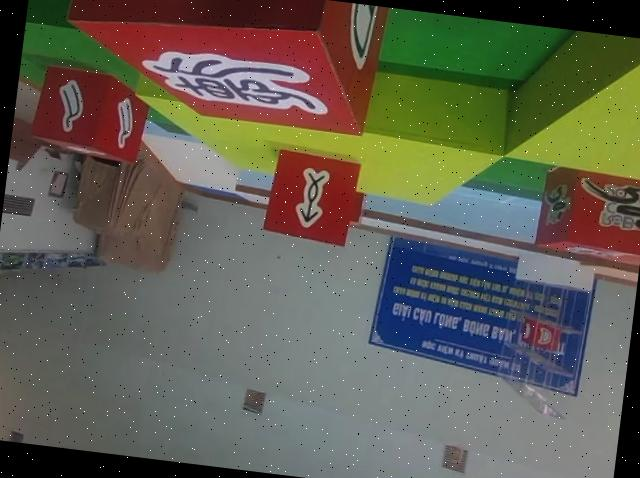R1: (527, 161, 640, 269)
R2 Fake: (51, 0, 391, 142)
R2 Real: (28, 54, 152, 162), (260, 142, 362, 247)
